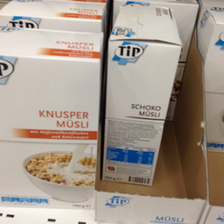cereal: (1, 31, 104, 213), (108, 5, 182, 187)
